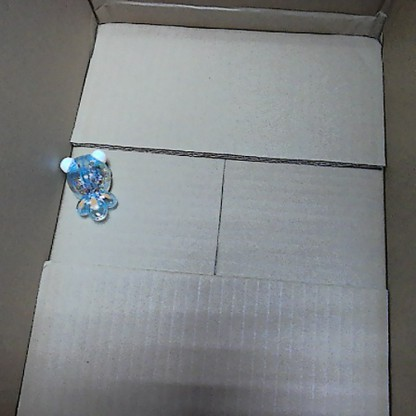bluefish: (52, 147, 121, 223)
